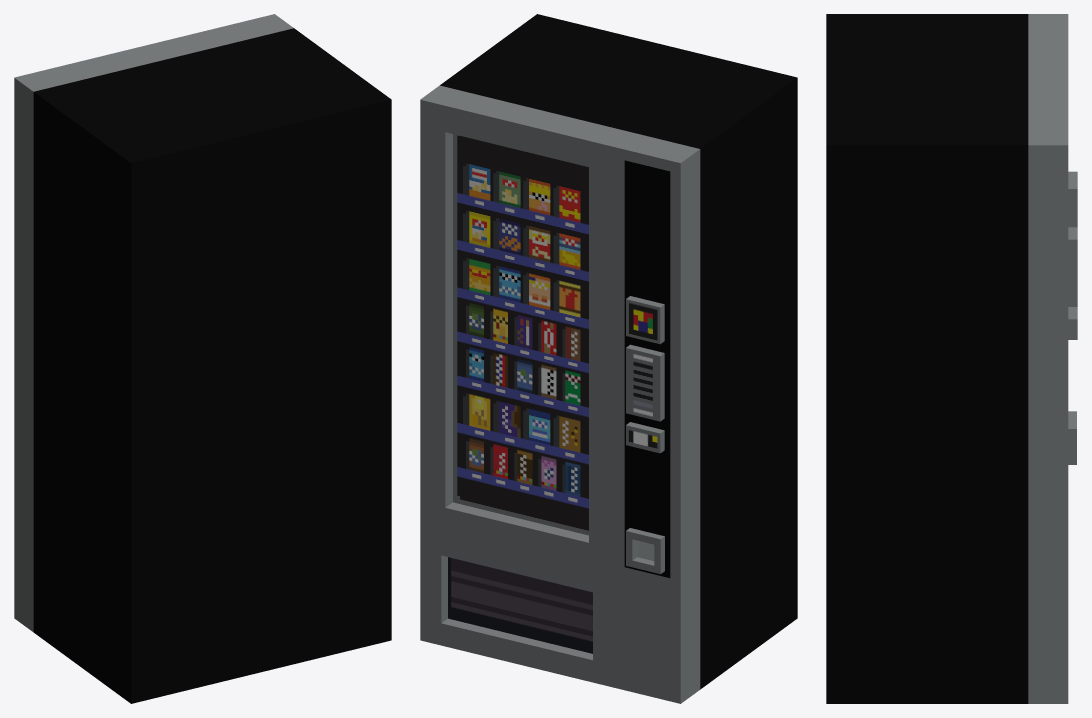
File: Vending machine.fbx
3 renders of one model, left to right at view 1: azimuth 30°, elevation 25°; view 2: azimuth 150°, elevation 25°; view 3: azimuth 270°, elevation 25°, orthographic. The views are drawn at different scales.
Parts seen in each view (by area): view 1: Vending Machine [Cube]; view 2: Vending Machine [Cube]; view 3: Vending Machine [Cube].
Part boxes in pixels (x1,y1,x2,y2): Vending Machine [Cube]: (14,14,391,703); Vending Machine [Cube]: (420,14,797,703); Vending Machine [Cube]: (826,14,1077,703).
Bounding box in the file's own units: 71.44 × 142 × 57.7.
